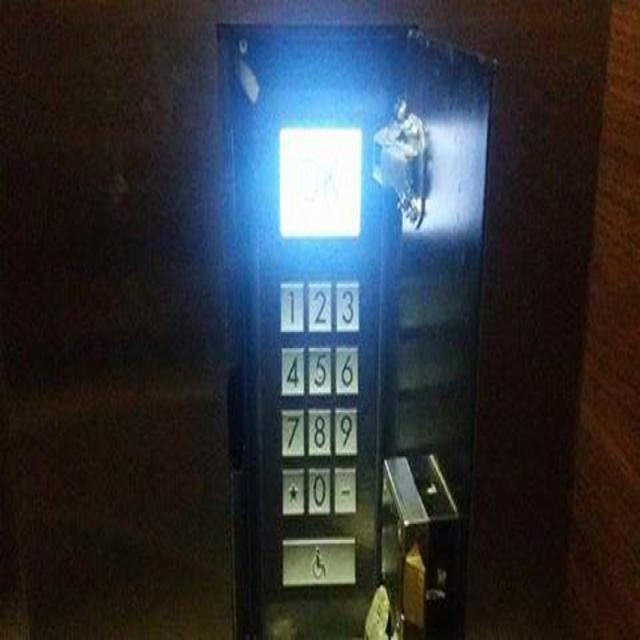-: (332, 463, 357, 516)
0: (305, 464, 332, 517)
1: (278, 277, 304, 335)
2: (305, 279, 333, 333)
3: (334, 278, 360, 334)
4: (278, 341, 304, 399)
5: (306, 341, 332, 396)
6: (332, 342, 360, 394)
7: (279, 404, 305, 459)
8: (306, 404, 332, 457)
9: (332, 404, 359, 457)
CH: (278, 532, 359, 589)
led: (274, 119, 367, 244)
s: (279, 464, 305, 517)
